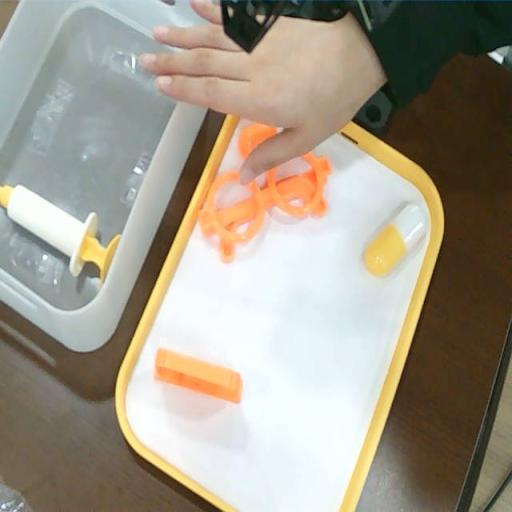hospital: (137, 23, 351, 187)
